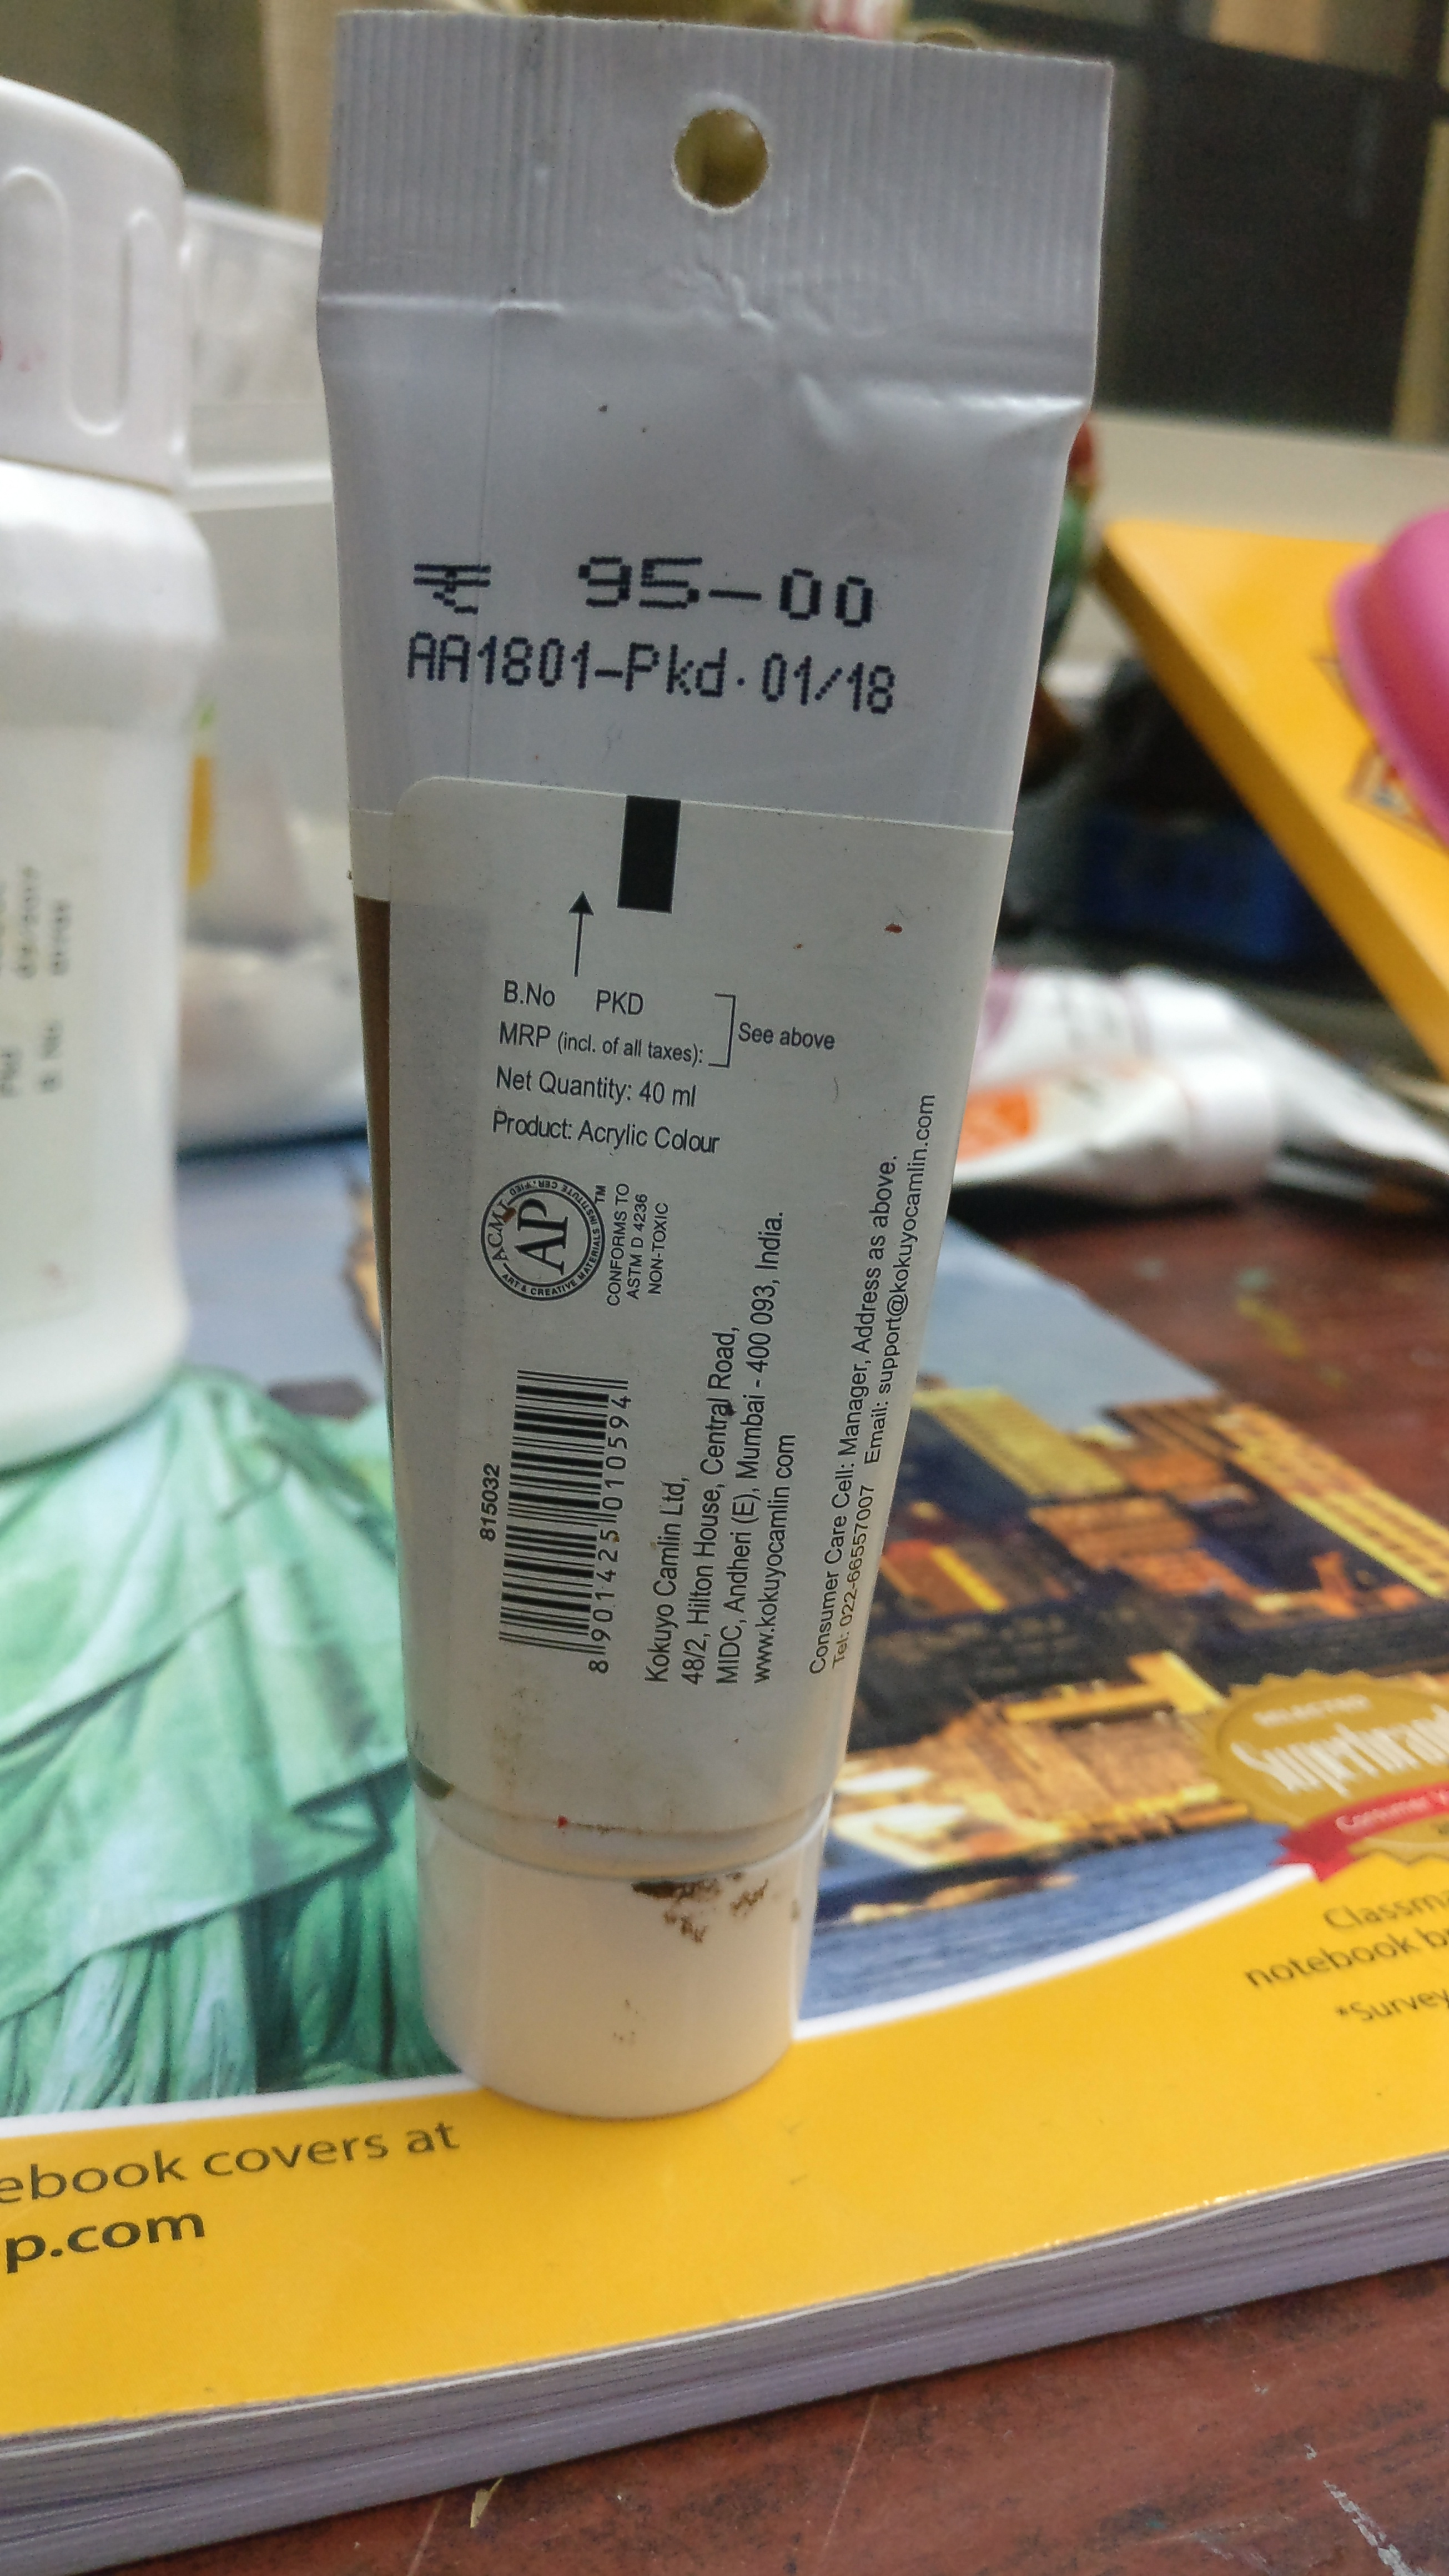barcode: (460, 1336, 633, 1702)
